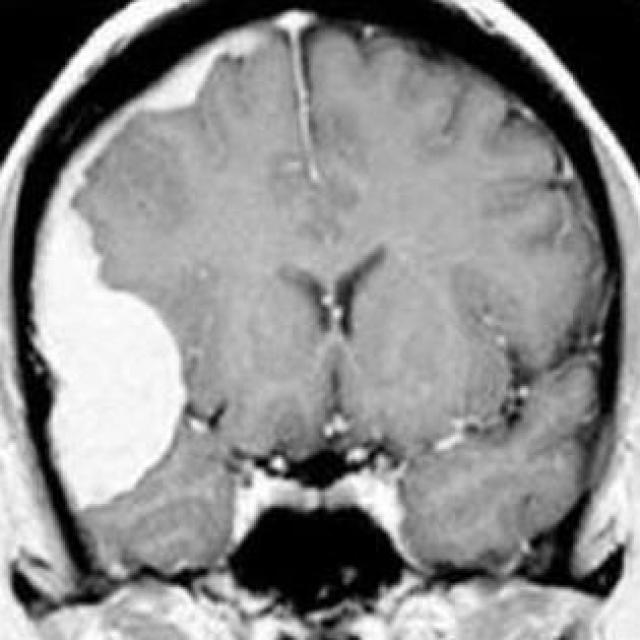Tumor: (33, 150, 187, 511)
